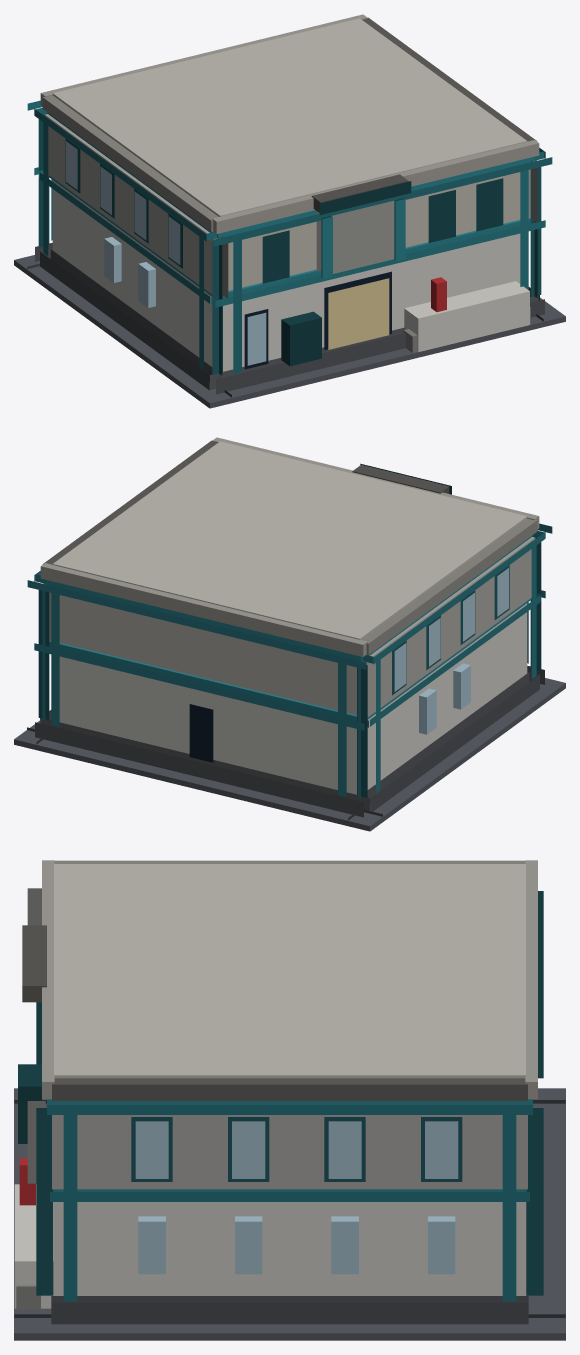
File: DuckInspectorSil.fbx
3 views of the same model, one above another, from view 1: azimuth 30°, elevation 25°; view 2: azimuth 150°, elevation 25°; view 3: azimuth 270°, elevation 25° (orthographic). The views are drawn at different scales.
Visible parts, largest first — view 1: DK_S_All; view 2: DK_S_All; view 3: DK_S_All.
Part boxes in pixels (x1,y1,x2,y2): DK_S_All: (14,14,565,408); DK_S_All: (14,437,565,831); DK_S_All: (14,860,565,1340).
Size of the model in its own units: 42.04 by 19.9 by 40.04.
